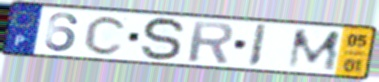6: (44, 12, 80, 53)
C: (82, 14, 130, 57)
I: (245, 22, 269, 69)
M: (285, 28, 343, 72)
R: (186, 19, 236, 65)
S: (139, 16, 187, 63)
